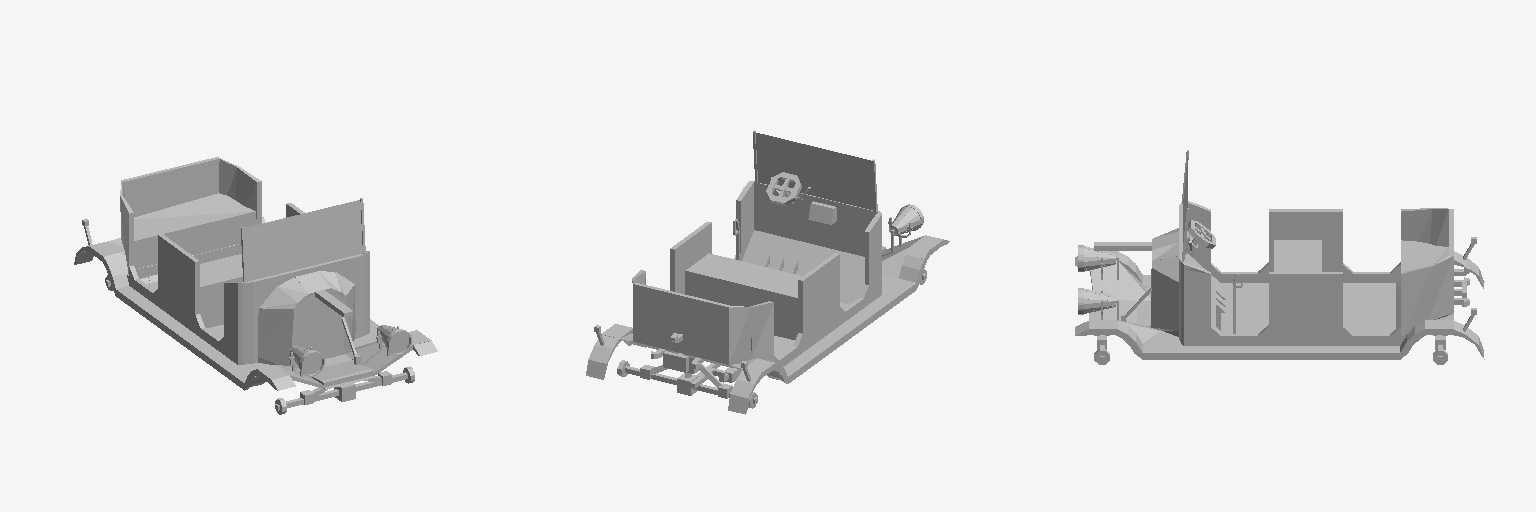
The model's file is modelt.obj.
3 renders of one model, left to right at view 1: azimuth 30°, elevation 25°; view 2: azimuth 150°, elevation 25°; view 3: azimuth 270°, elevation 25°, orthographic.
Parts seen in each view (by area): view 1: Core, Window, $FrontSteering; view 2: Core, Window, $SteeringWheel, $BackDriveshaft; view 3: Core, $SteeringWheel.
Part boxes in pixels (left/top/right/bottom): Core: left=74, top=157, right=437, bottom=390; Window: left=244, top=200, right=362, bottom=281; $FrontSteering: left=275, top=371, right=414, bottom=410; Core: left=586, top=130, right=949, bottom=414; Window: left=756, top=133, right=873, bottom=210; $SteeringWheel: left=766, top=172, right=801, bottom=205; $BackDriveshaft: left=617, top=360, right=757, bottom=408; Core: left=1075, top=150, right=1484, bottom=359; $SteeringWheel: left=1125, top=220, right=1215, bottom=317.
Bounding box in the file's own units: 2.19 × 2 × 4.84.